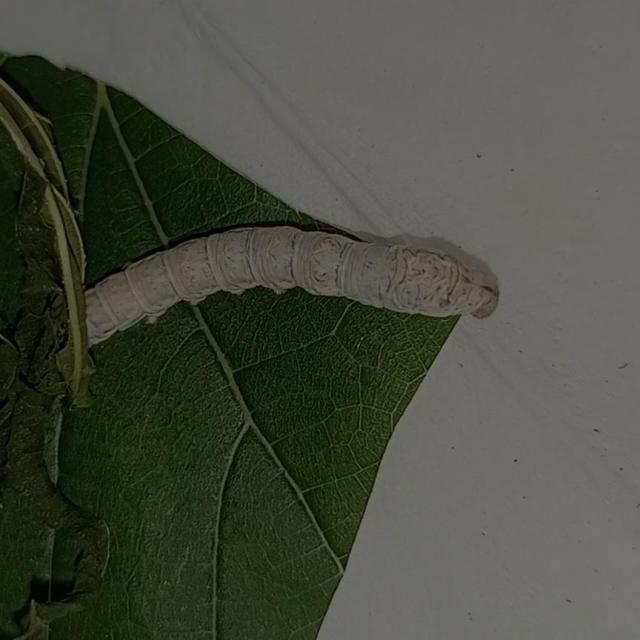Healthy: (49, 184, 527, 355)
